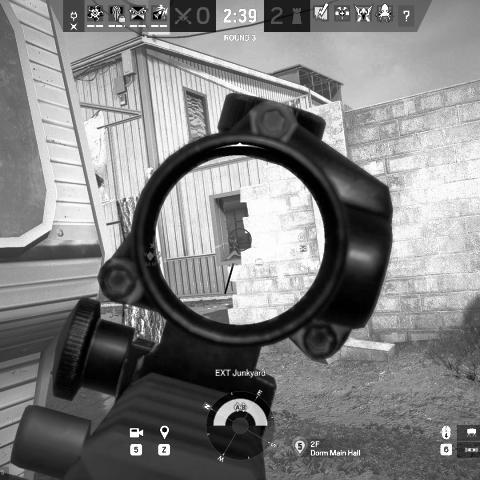Character: (229, 235, 238, 252)
Friend_label: (295, 244, 313, 260), (144, 241, 162, 257)
Head: (230, 236, 236, 242)
